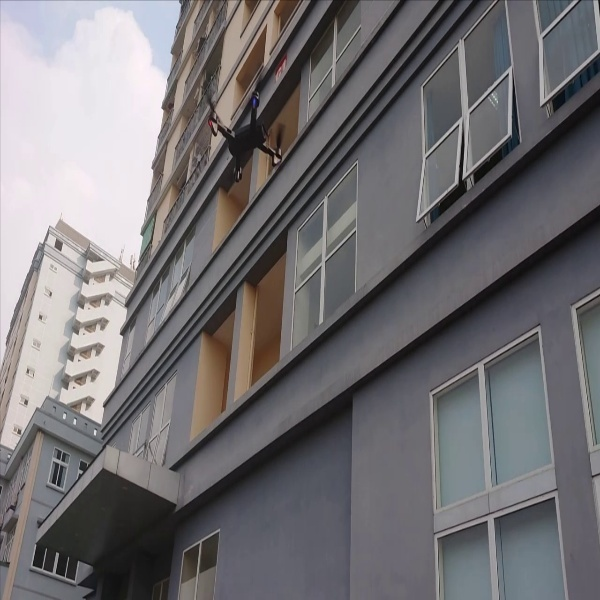drone: (192, 69, 295, 193)
